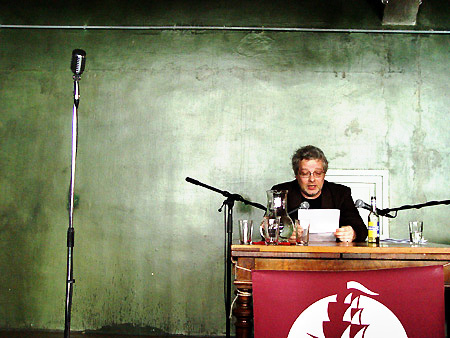person: (266, 146, 369, 244)
